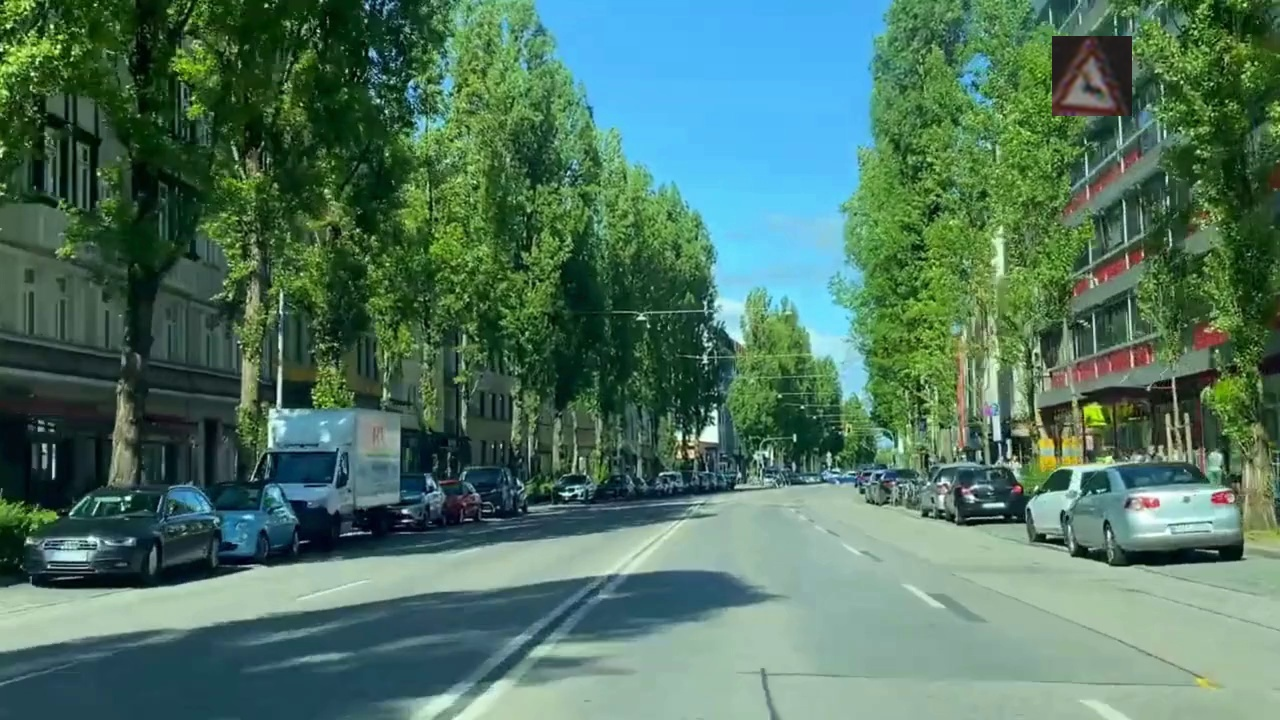Wild animals: (1052, 36, 1132, 116)
